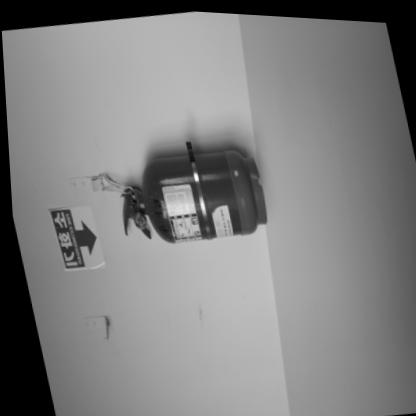FE: (104, 138, 269, 255)
